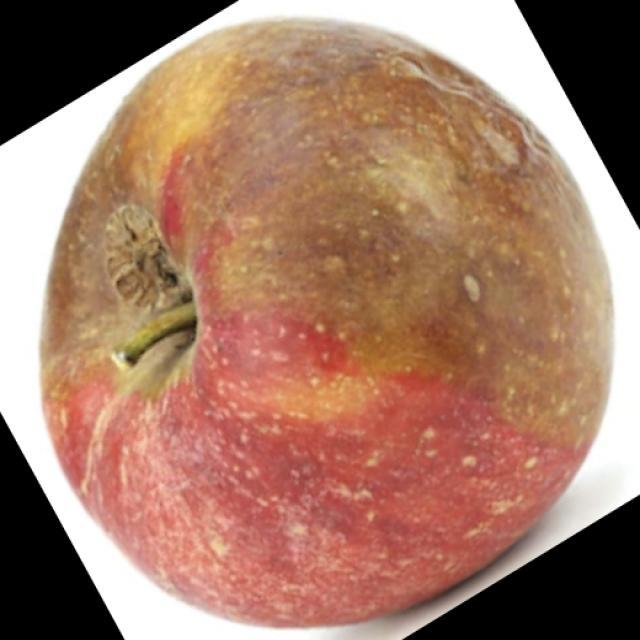Rotten: (30, 24, 617, 608)
